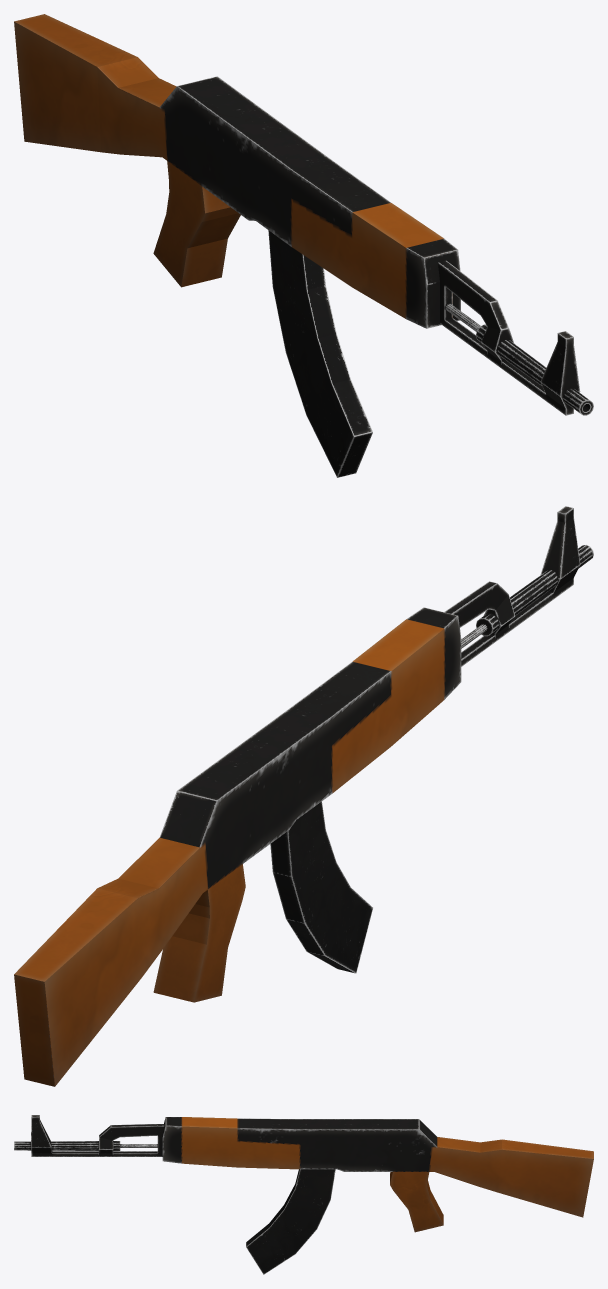
The picture shows the model from 3 angles, top to bottom: view 1: azimuth 30°, elevation 25°; view 2: azimuth 150°, elevation 25°; view 3: azimuth 270°, elevation 25°; orthographic projection. The views are drawn at different scales.
Visible parts, largest first — view 1: AK 47; view 2: AK 47; view 3: AK 47.
Part boxes in pixels (<box>): AK 47: <box>14,14,593,477</box>; AK 47: <box>14,506,593,1086</box>; AK 47: <box>14,1115,593,1274</box>.
Bounding box in the file's own units: 3.19 × 22.61 × 75.91.
